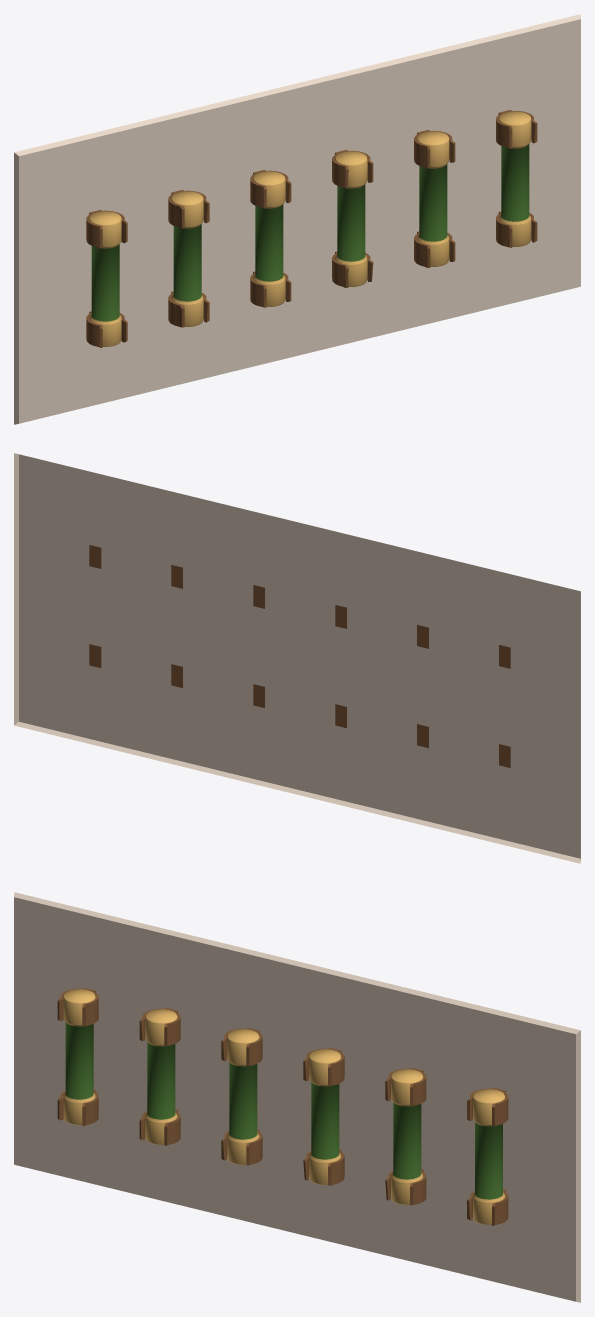
Rendered from Fuse Panel.fbx.
3 views of the same model, one above another, from view 1: azimuth 30°, elevation 25°; view 2: azimuth 150°, elevation 25°; view 3: azimuth 330°, elevation 25° (orthographic).
Parts seen in each view (by area): view 1: Fuse Holders, Fuse3, Fuse4, Fuse2, Fuse5, Fuse6, Fuse1; view 2: Fuse Holders; view 3: Fuse Holders, Fuse3, Fuse1, Fuse2, Fuse4, Fuse5, Fuse6.
Boxes of the visible parts, x1,y1,x2,y2 form: Fuse Holders: (14,14,580,424); Fuse3: (253,171,285,306); Fuse4: (335,151,367,286); Fuse2: (171,191,203,326); Fuse5: (417,131,449,266); Fuse6: (499,111,531,246); Fuse1: (89,211,121,346); Fuse Holders: (14,453,580,863); Fuse Holders: (14,892,580,1302); Fuse3: (227,1029,259,1164); Fuse1: (63,989,95,1124); Fuse2: (145,1009,177,1144); Fuse4: (309,1049,341,1184); Fuse5: (391,1069,423,1204); Fuse6: (473,1089,505,1224).
Bounding box in the file's own units: 0.2421 × 0.1112 × 0.0163.
